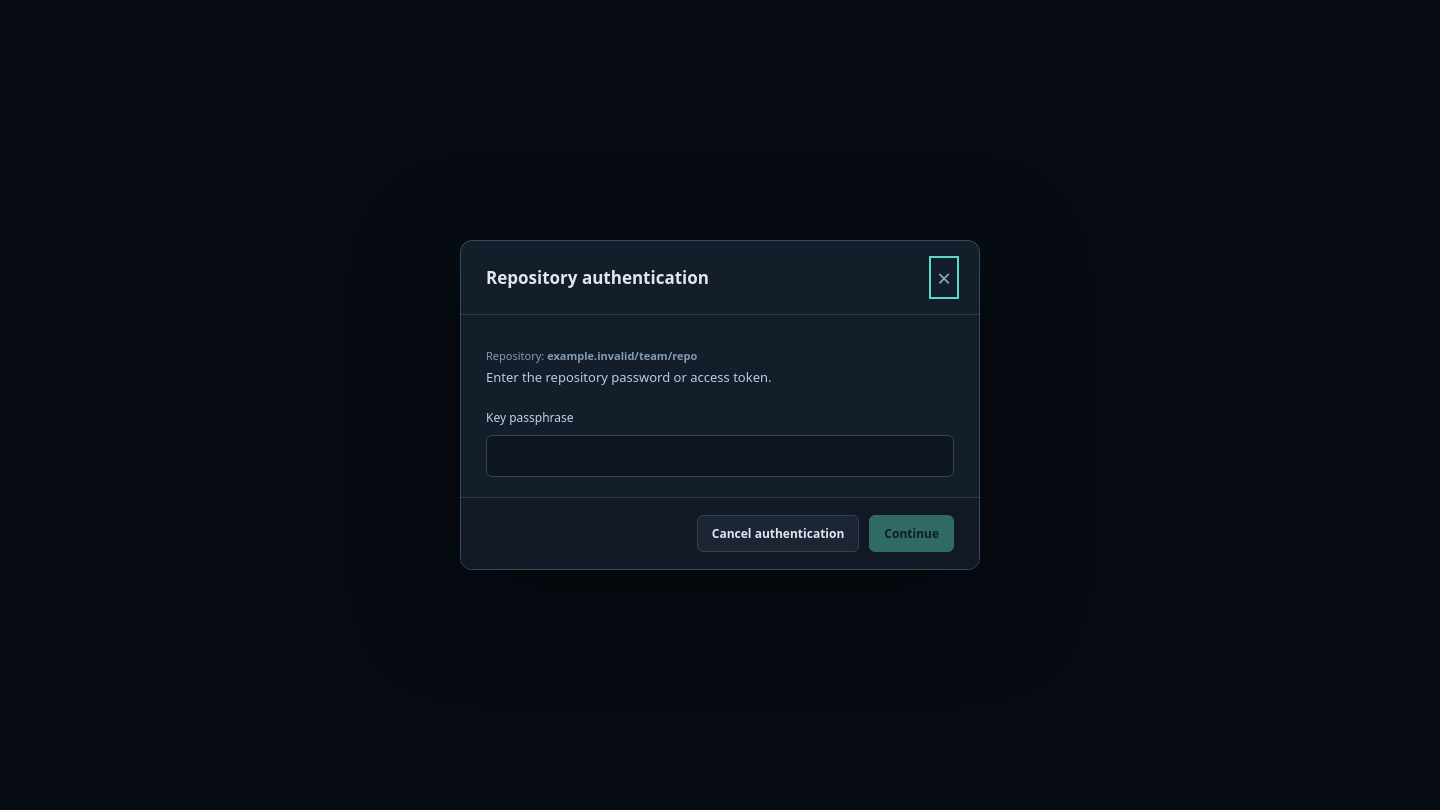
transient authentication › masks passphrase and clears the value before awaiting a response
This screenshot has width=1440, height=810.
Type "CANARY_SECRET" into the password field labelled "Key passphrase". click: [720, 456]
box: [486, 435, 954, 477]
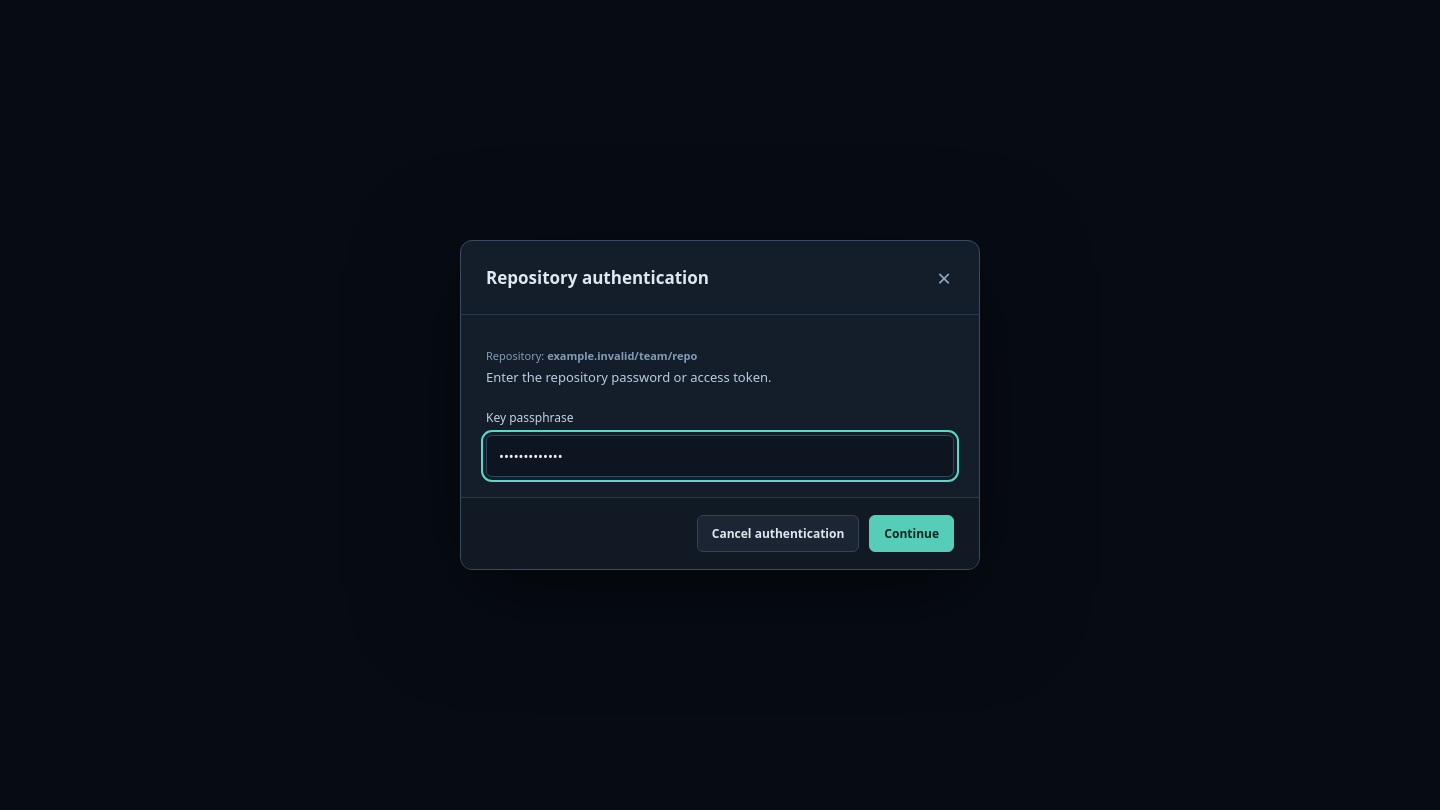
Click the button "Continue". click: [912, 534]
box: [869, 515, 954, 552]
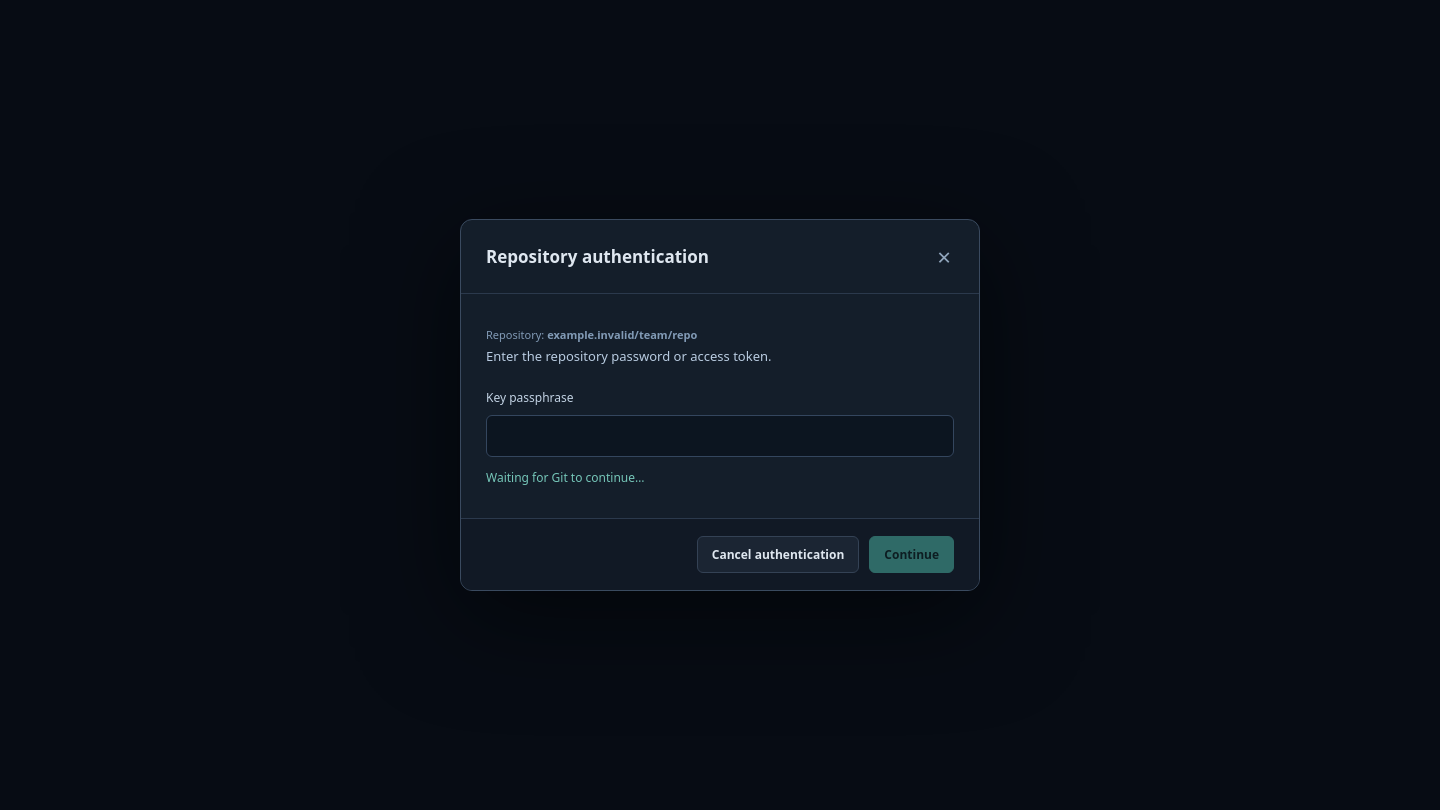
Now the password field labelled "Key passphrase" is empty, box [486, 414, 954, 456]
Now the button "Continue" is disabled, box [869, 536, 954, 572]
